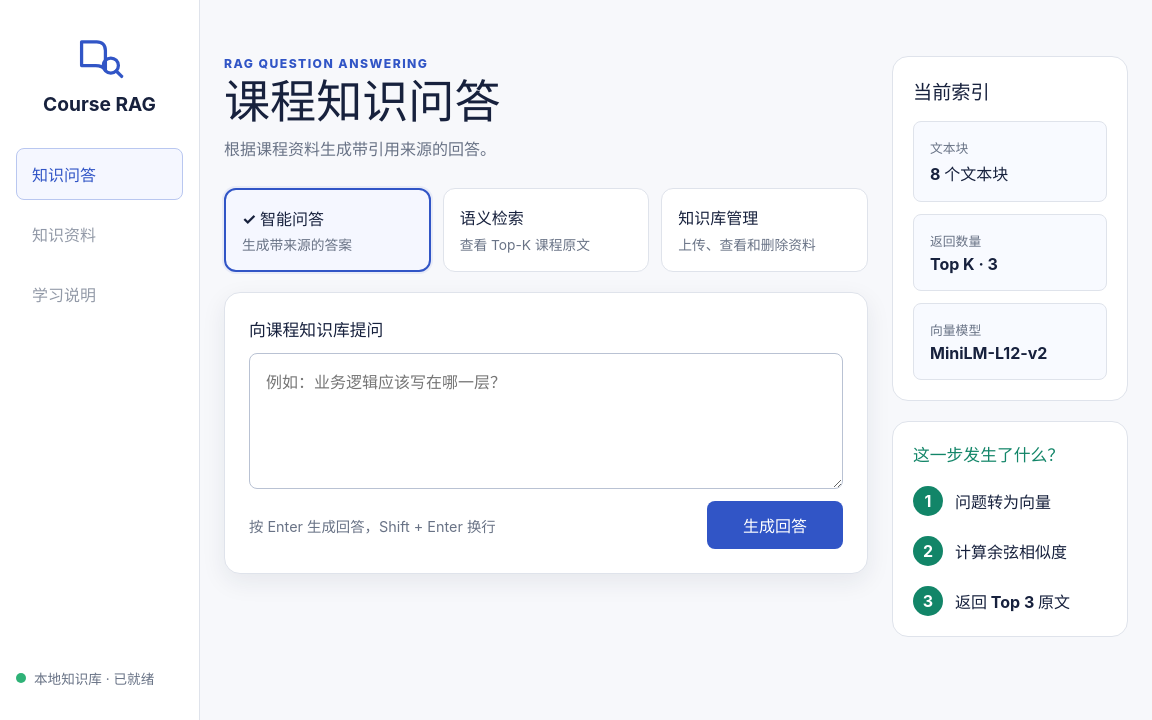
Scenario: App › renders insufficient context as candidates rather than citations
Type "今天天气怎么样？" into the text box labelled "向课程知识库提问". click: (546, 421)
box: left=249, top=353, right=843, bottom=489
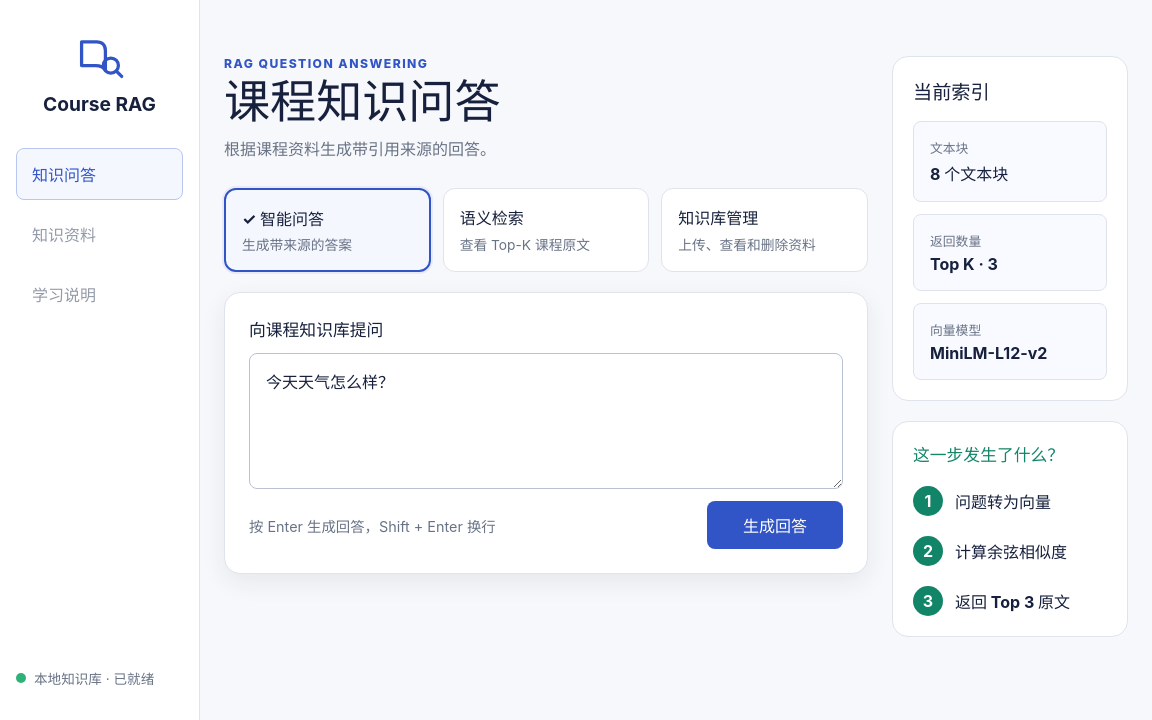
Submit the form, box left=224, top=292, right=868, bottom=574
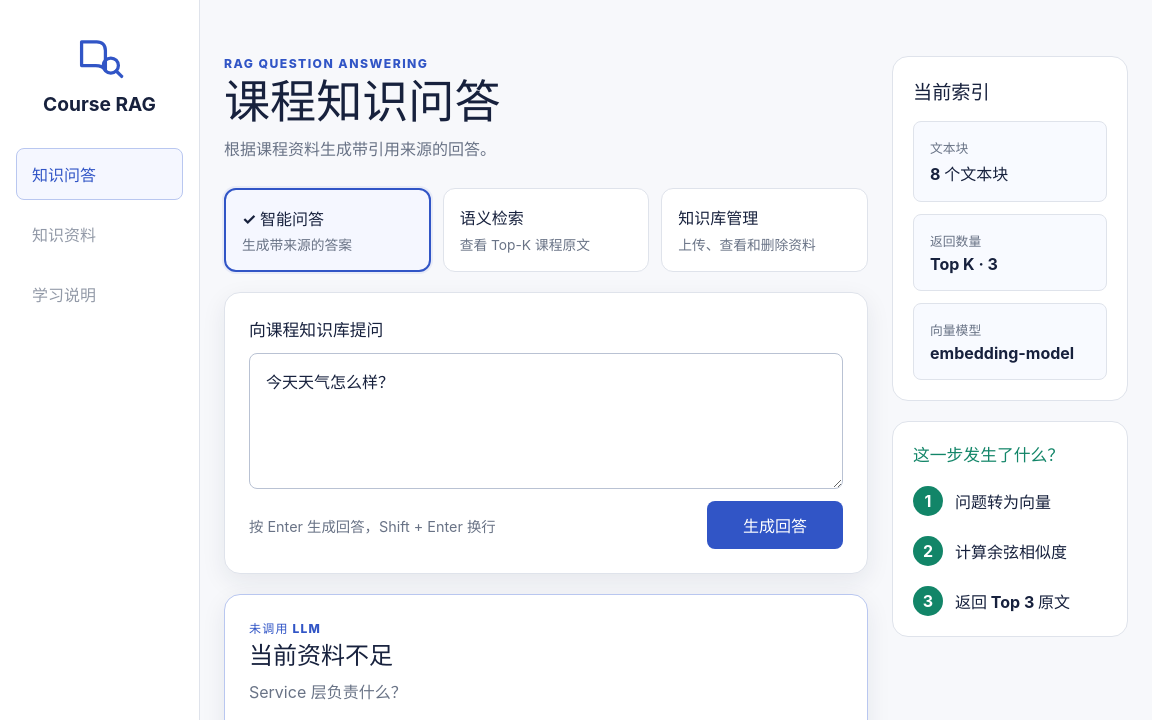
Expected: the text "资料不足" is shown, left=249, top=641, right=393, bottom=670
Click the button "语义检索 查看 Top-K 课程原文". click: (546, 230)
box: left=443, top=188, right=649, bottom=272
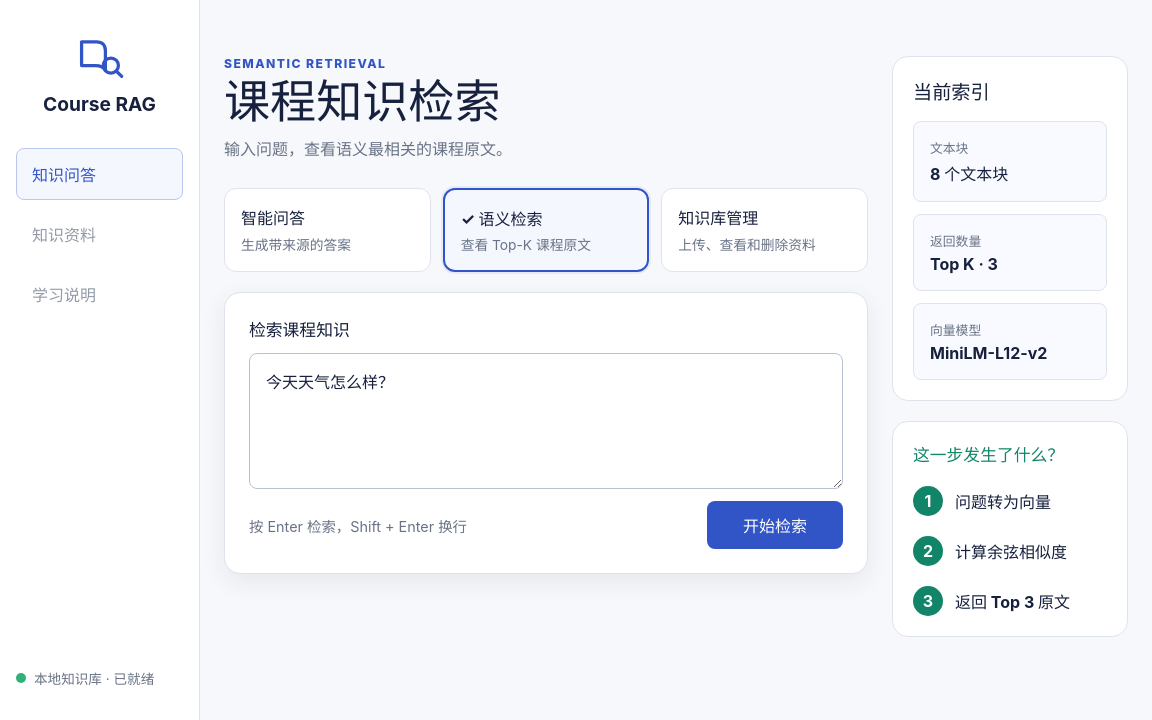
Expected: the text "课程知识检索" is shown, left=224, top=73, right=500, bottom=129
